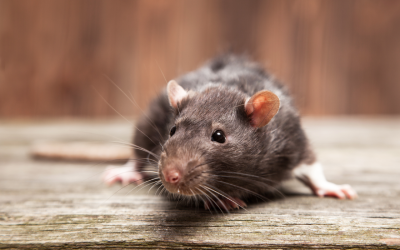Rat: (112, 42, 360, 217)
